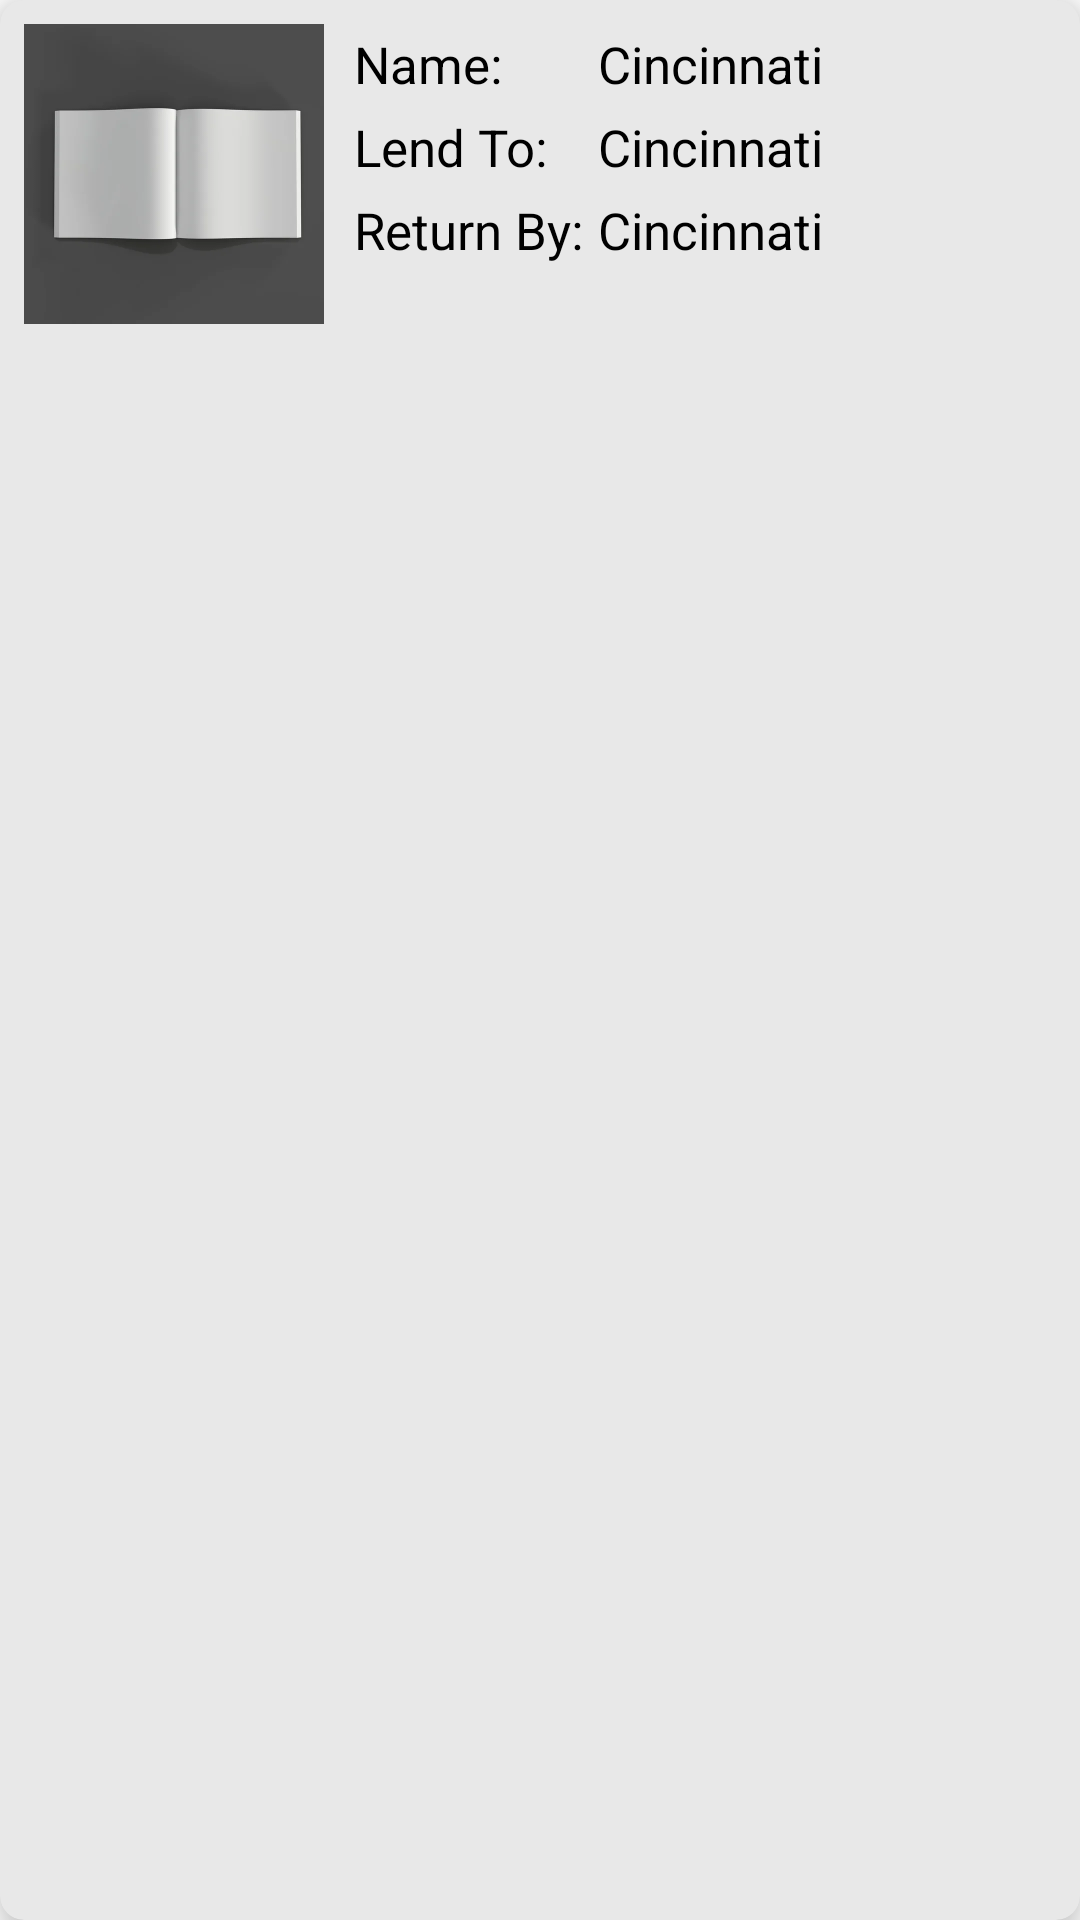

Icons on this 1080*1920 Android screen, each with its box as bbox(x1, y1, x2, y2):
bookimage: bbox(24, 24, 324, 324)
